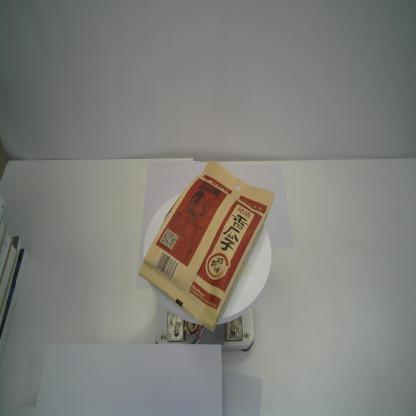Dried Food: (137, 157, 276, 334)
